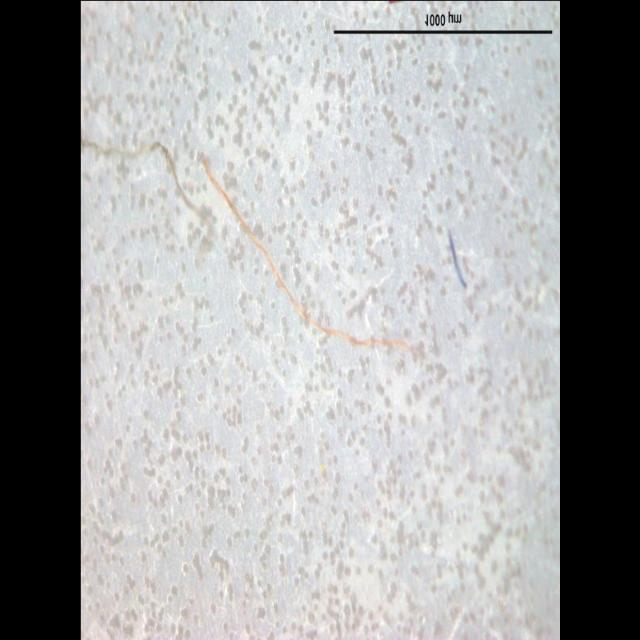Fibre: (196, 152, 412, 352), (80, 113, 208, 227)
